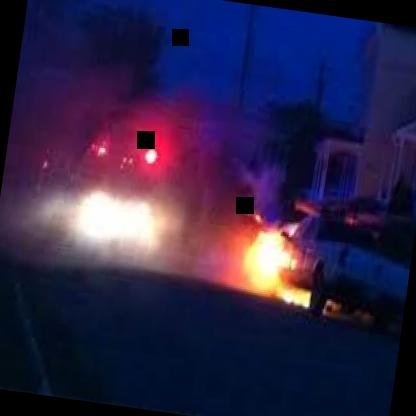fire: (223, 202, 327, 308)
